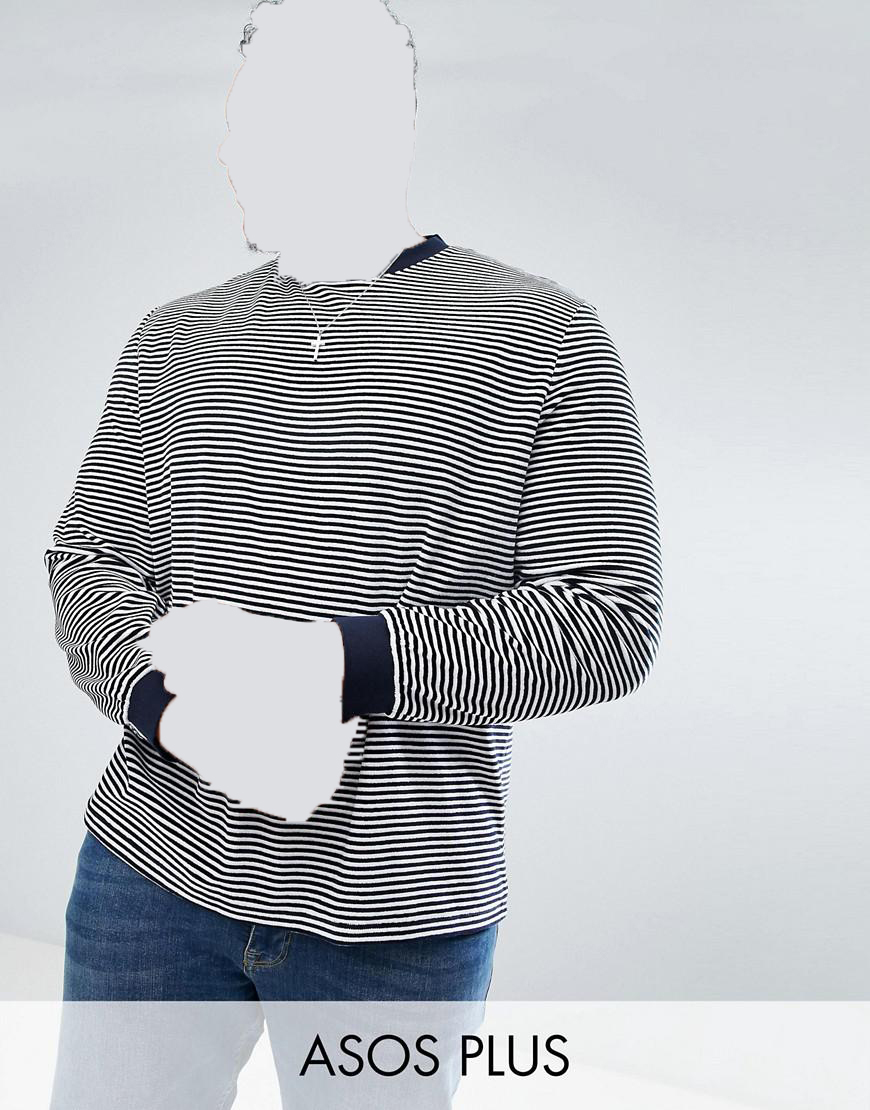teeshirt: (34, 229, 676, 954)
